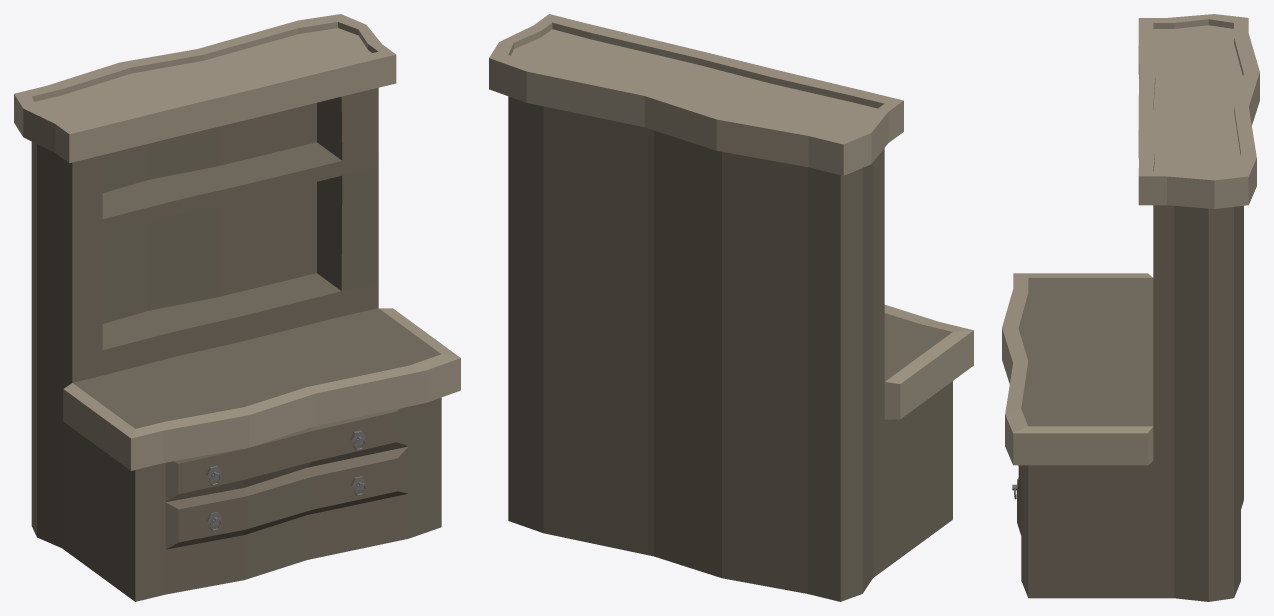
Rendered from workbench.fbx.
3 renders of one model, left to right at view 1: azimuth 30°, elevation 25°; view 2: azimuth 150°, elevation 25°; view 3: azimuth 270°, elevation 25°, orthographic. The views are drawn at different scales.
Visible parts, largest first — view 1: workbench; view 2: workbench; view 3: workbench.
Part boxes in pixels (left/top/right/bottom): workbench: left=14, top=14, right=460, bottom=601; workbench: left=489, top=14, right=973, bottom=601; workbench: left=1002, top=14, right=1259, bottom=601.
Bounding box in the file's own units: 1.77 × 2.12 × 1.16.
